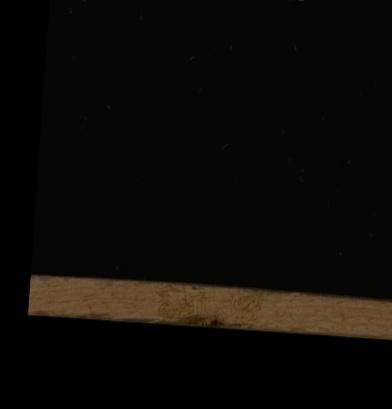wave: (117, 314, 255, 325)
